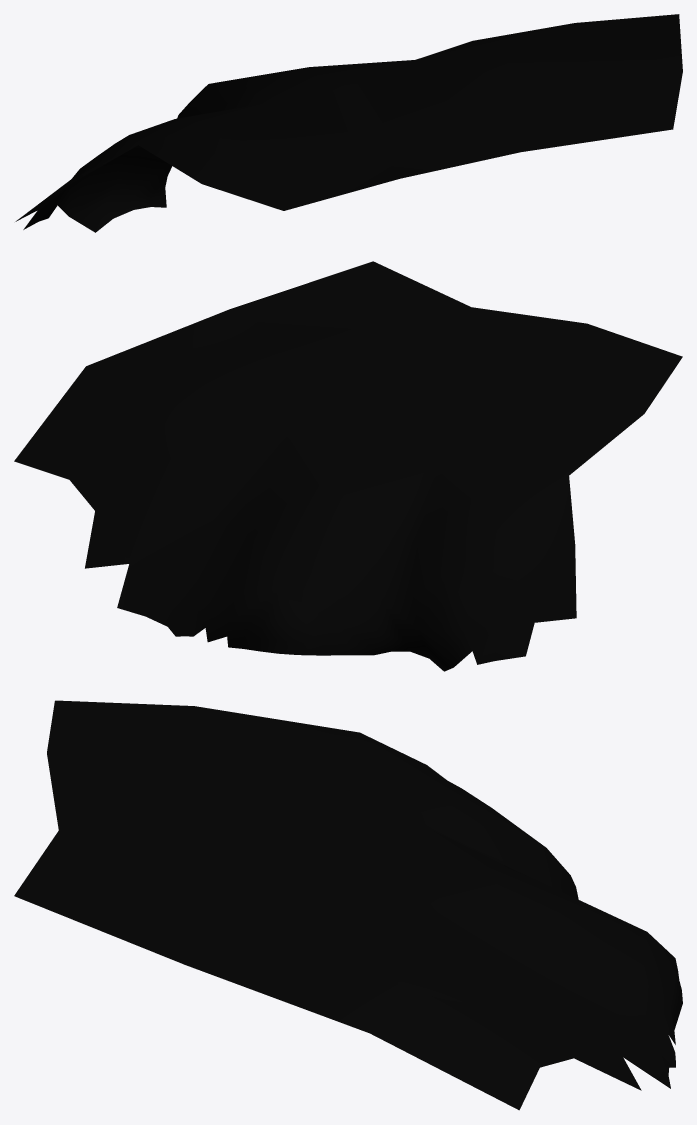
File: HTOWN01_TREESHADOWS04.fbx
The picture shows the model from 3 angles, top to bottom: view 1: azimuth 30°, elevation 25°; view 2: azimuth 150°, elevation 25°; view 3: azimuth 270°, elevation 25°; orthographic projection. The views are drawn at different scales.
Parts seen in each view (by area): view 1: HTOWN01_TREESHADOWS04; view 2: HTOWN01_TREESHADOWS04; view 3: HTOWN01_TREESHADOWS04.
Part boxes in pixels (<box>): HTOWN01_TREESHADOWS04: <box>15,14,682,232</box>; HTOWN01_TREESHADOWS04: <box>14,261,682,671</box>; HTOWN01_TREESHADOWS04: <box>14,700,682,1110</box>.
Size of the model in its own units: 208636 by 66158 by 174046.
Materials: 1 (1 with a texture image).
